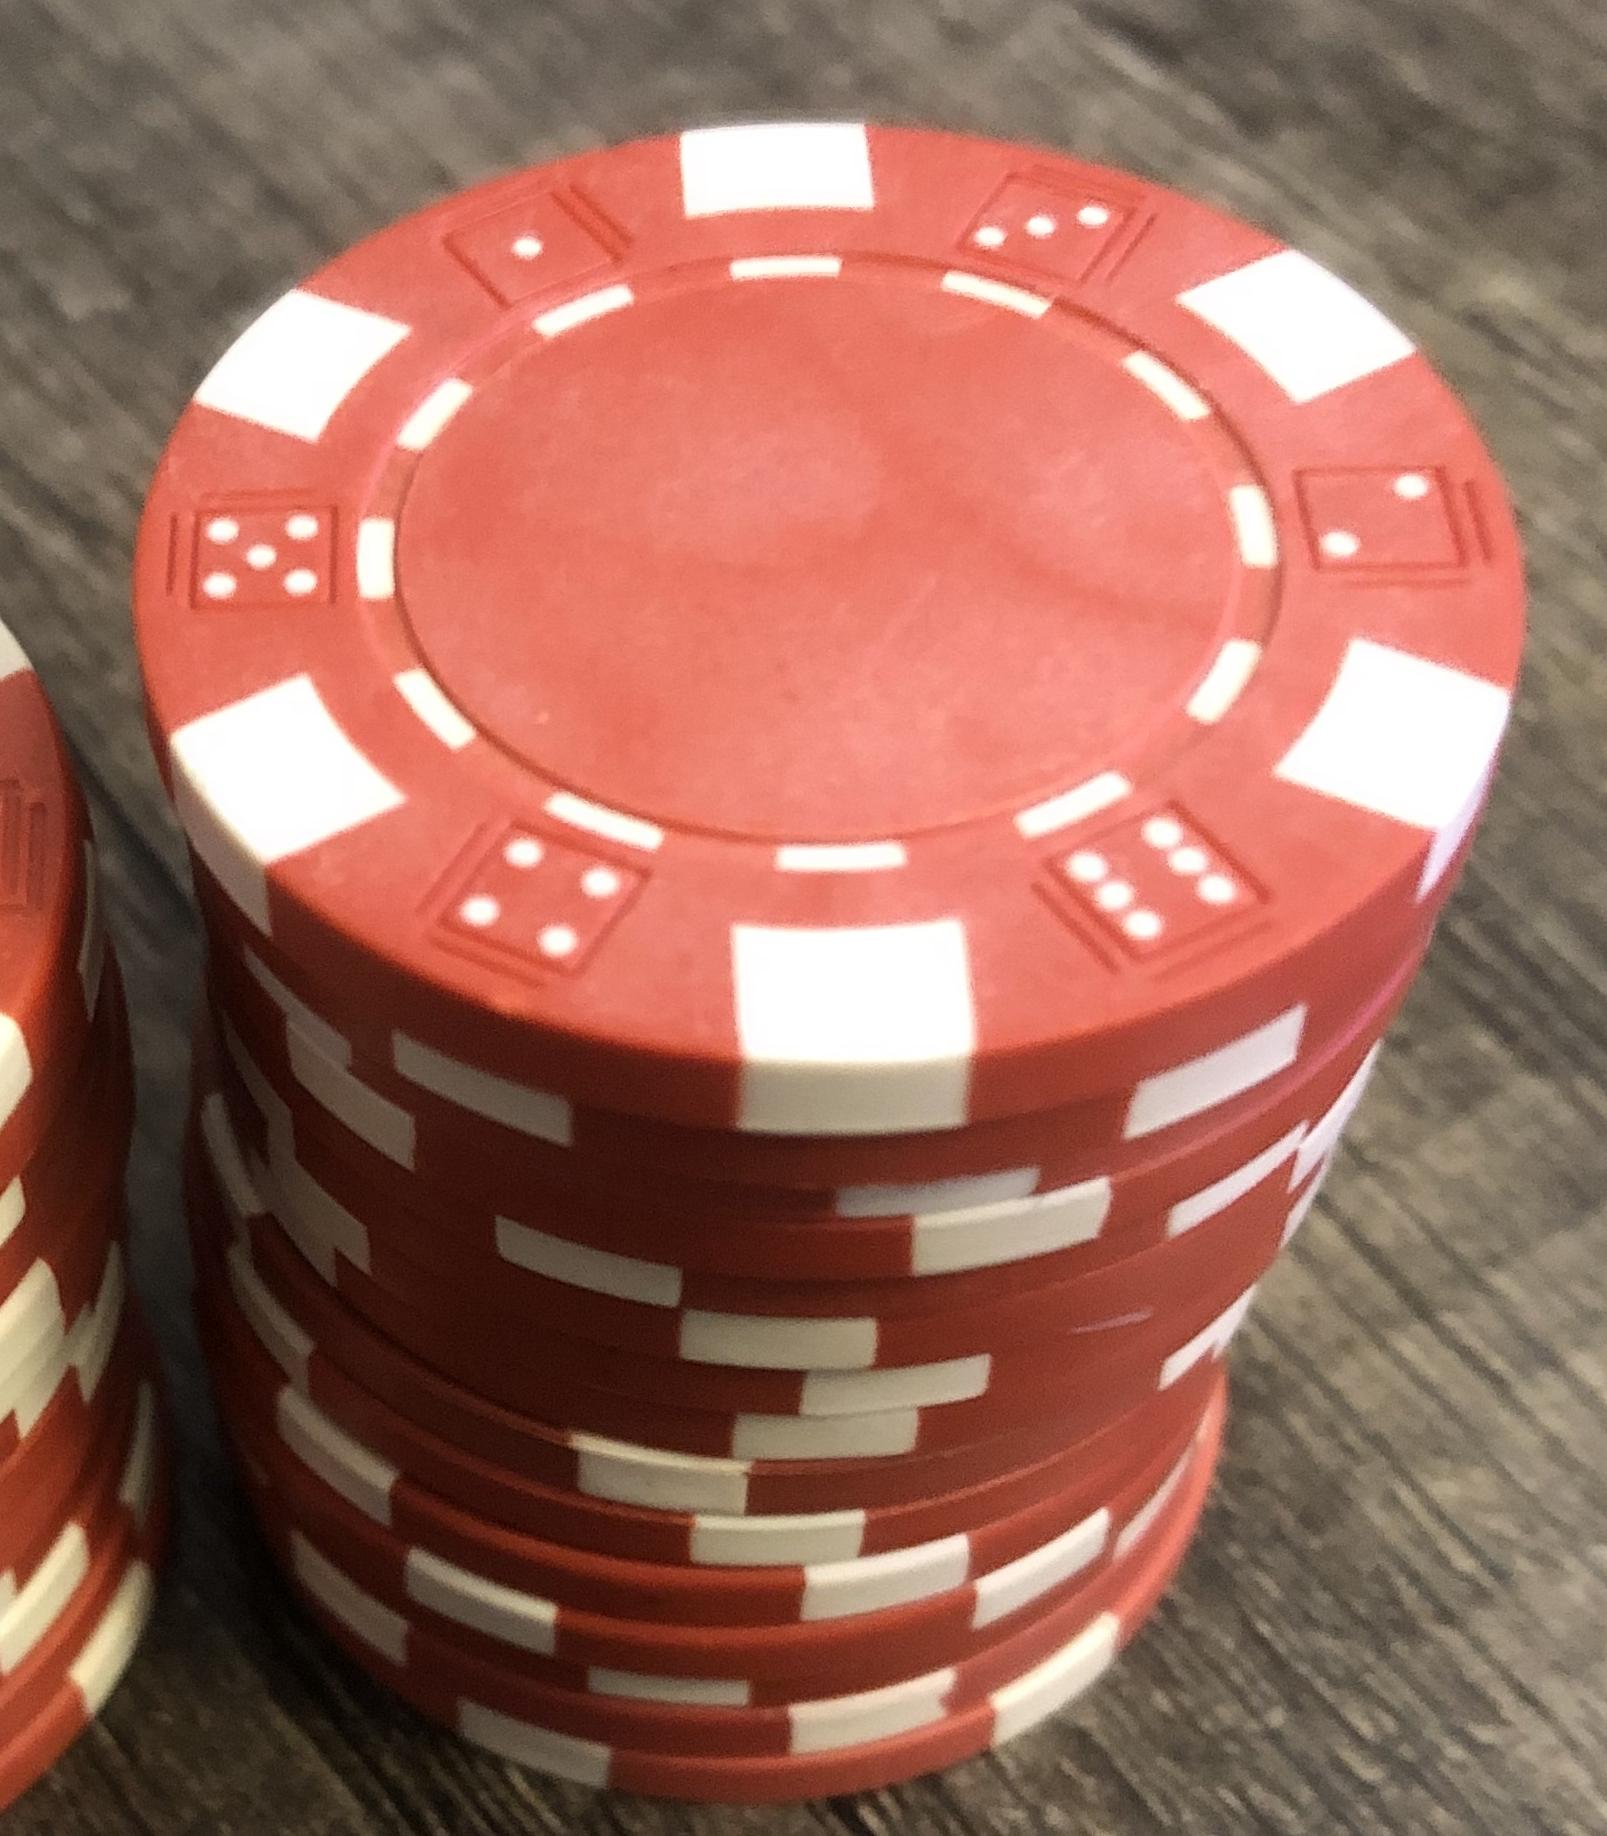Chip: (2, 2, 1607, 1836)
